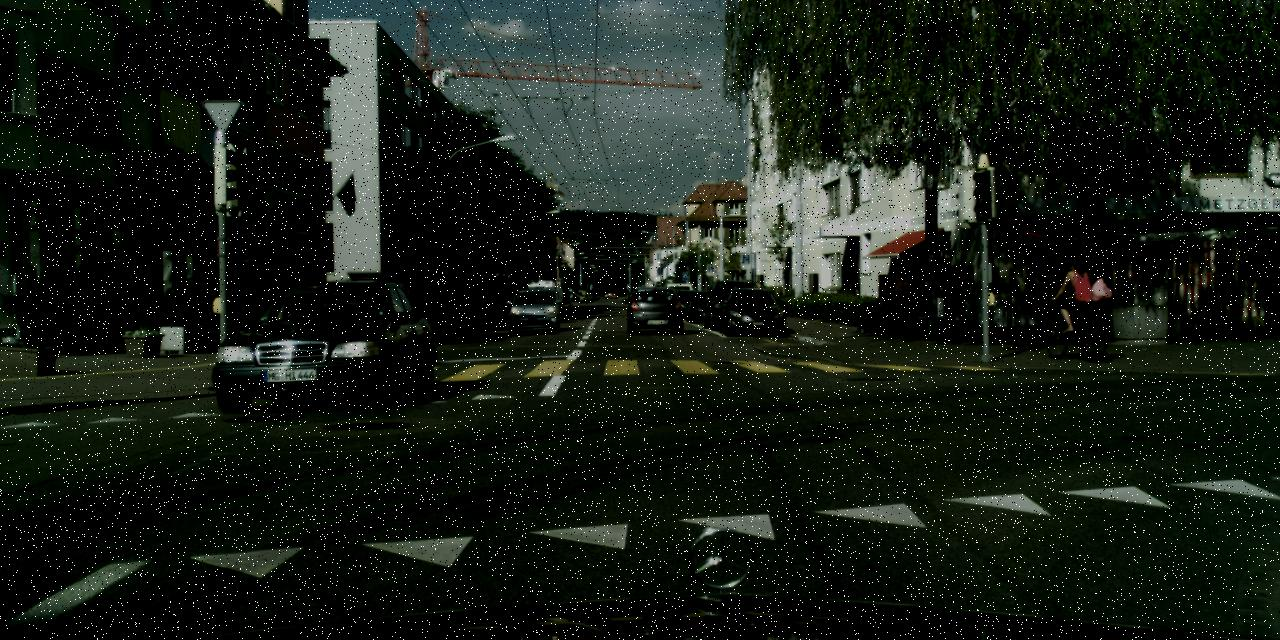ped: (1058, 258, 1091, 339), (482, 288, 495, 320), (476, 290, 488, 320)
